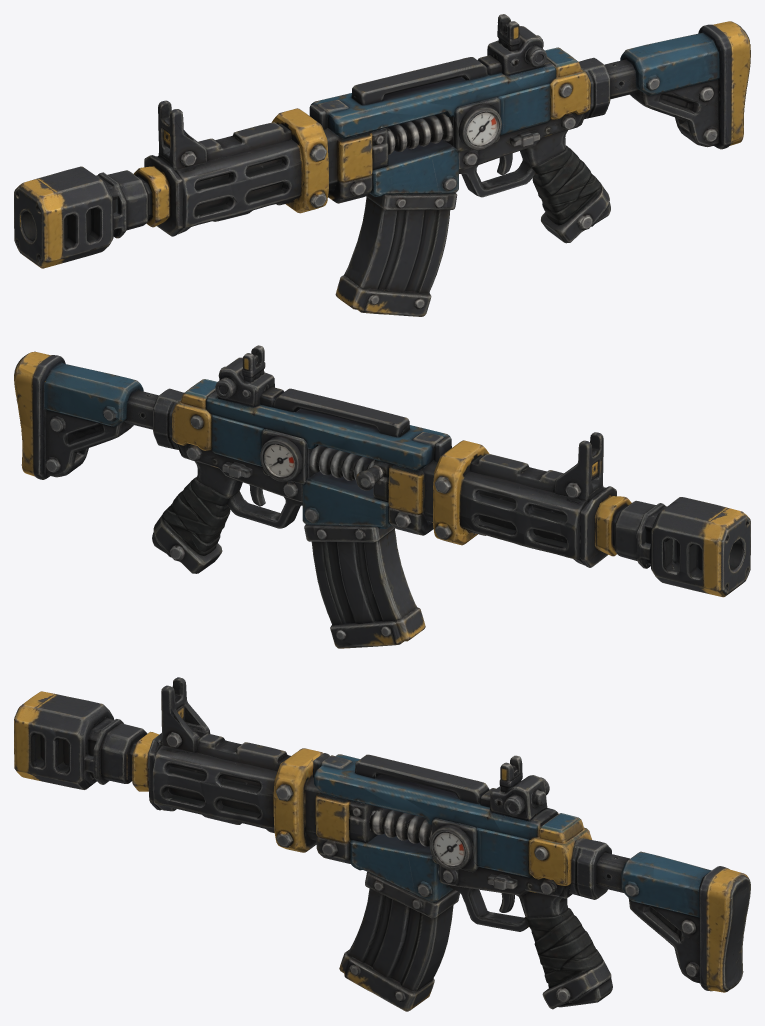
Rendered from weapon_assault_rifle.glb.
The picture shows the model from 3 angles, top to bottom: view 1: azimuth 30°, elevation 25°; view 2: azimuth 150°, elevation 25°; view 3: azimuth 330°, elevation 25°; orthographic projection.
Parts seen in each view (by area): view 1: output_unwrapped; view 2: output_unwrapped; view 3: output_unwrapped.
Boxes of the visible parts, x1,y1,x2,y2 form: output_unwrapped: [14, 14, 750, 316]; output_unwrapped: [14, 345, 750, 648]; output_unwrapped: [14, 677, 750, 1011].
Bounding box in the file's own units: 1.9 × 0.6818 × 0.2219.
Materials: 1 (1 with a texture image).
